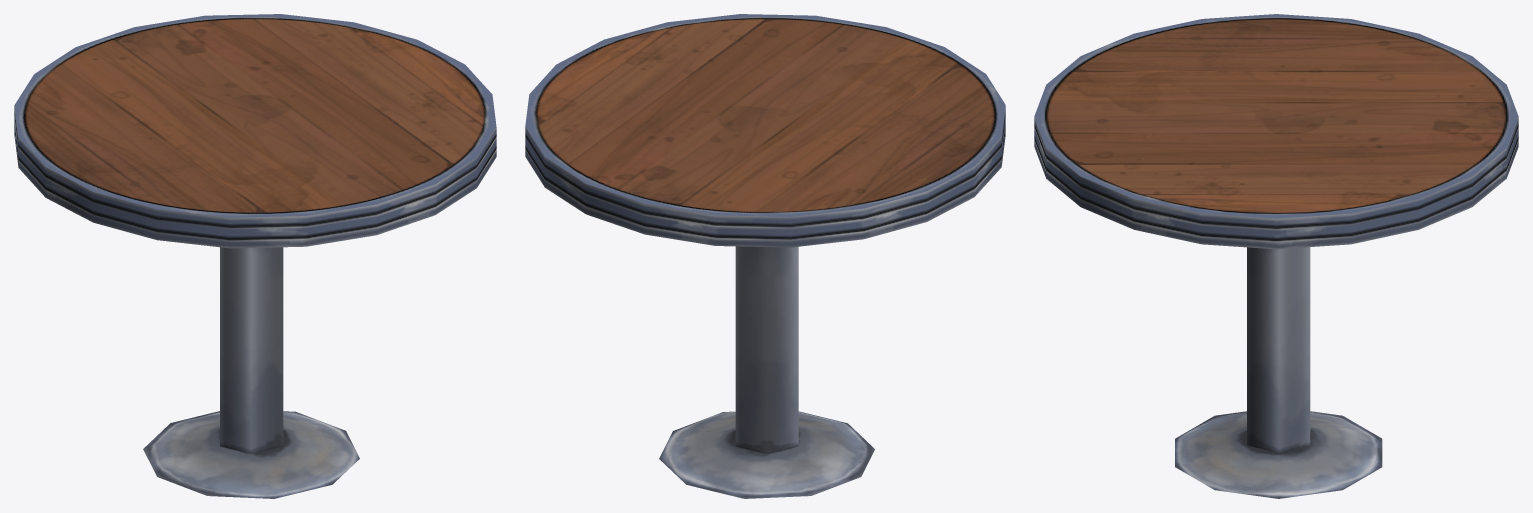
File: table_05.fbx
3 renders of one model, left to right at view 1: azimuth 30°, elevation 25°; view 2: azimuth 150°, elevation 25°; view 3: azimuth 270°, elevation 25°, orthographic.
Visible parts, largest first — view 1: table_05; view 2: table_05; view 3: table_05.
Boxes of the visible parts, left/top/right/bottom form: table_05: left=14, top=14, right=496, bottom=498; table_05: left=525, top=14, right=1005, bottom=498; table_05: left=1034, top=14, right=1518, bottom=498.
Size of the model in its own units: 100 by 77 by 100.
